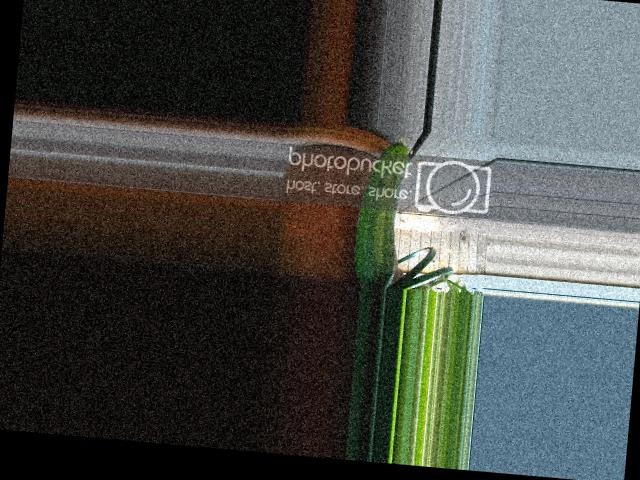cucumber: (352, 132, 410, 287)
